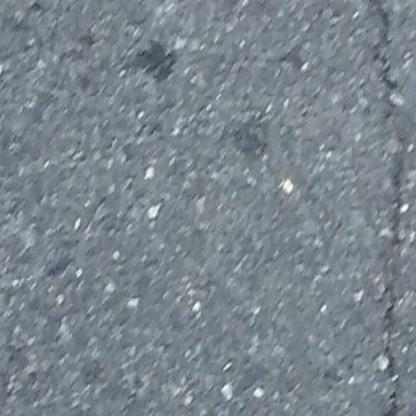Cracks: (326, 0, 416, 416)
